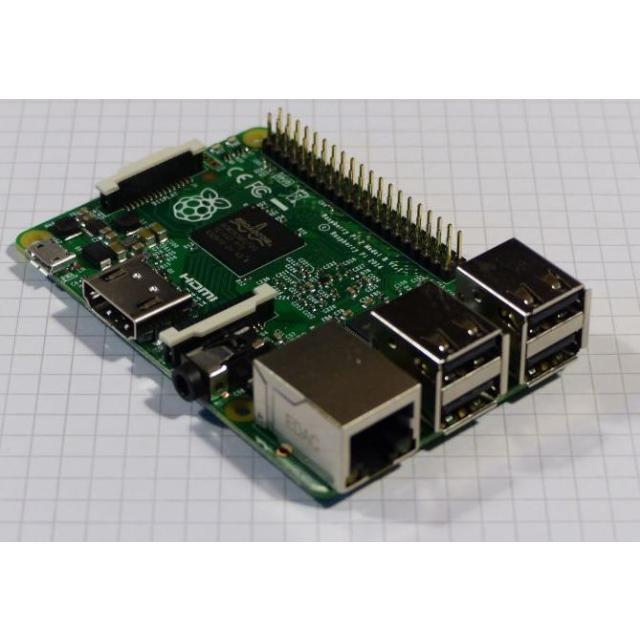Raspberry-Pi-2-B: (16, 112, 589, 501)
